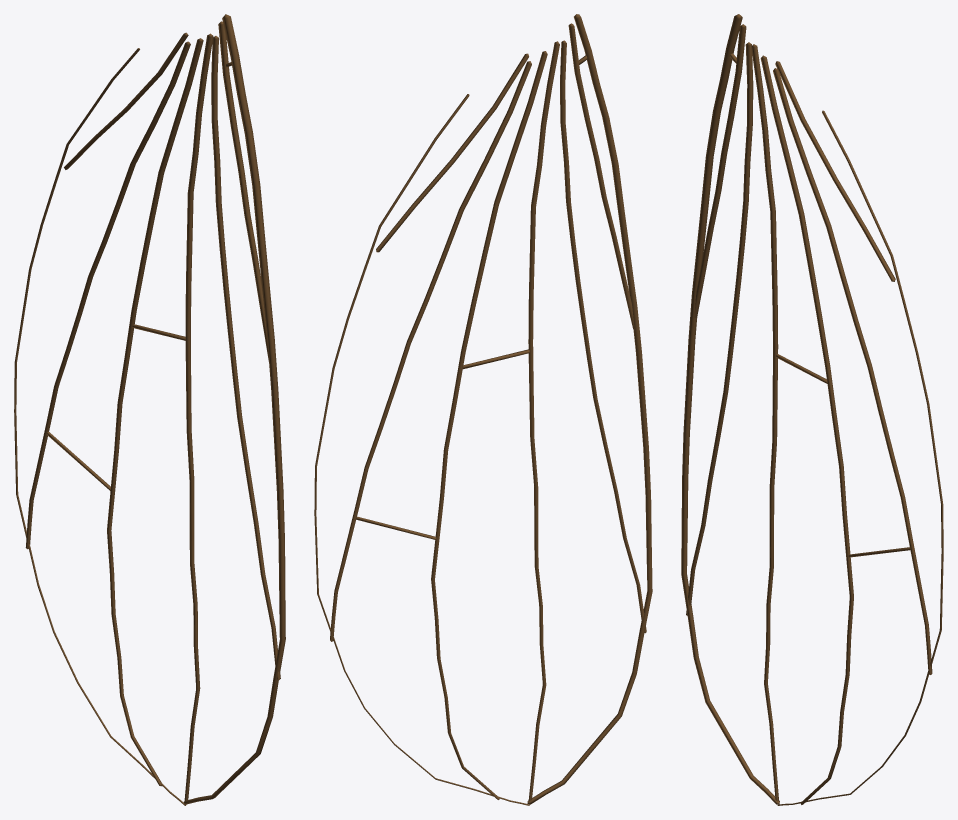
Rendered from wing_left_vein.obj.
3 renders of one model, left to right at view 1: azimuth 90°, elevation 25°; view 2: azimuth 150°, elevation 25°; view 3: azimuth 270°, elevation 25°, orthographic. The views are drawn at different scales.
Bounding box in the file's own units: 0.0707 × 0.2548 × 0.0779.
